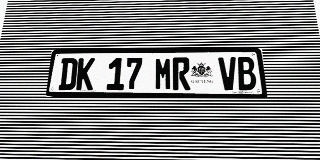1: (106, 58, 125, 90)
7: (124, 58, 143, 90)
B: (236, 57, 257, 90)
D: (58, 58, 78, 90)
K: (76, 58, 95, 90)
M: (155, 57, 172, 90)
R: (173, 57, 191, 90)
V: (218, 57, 238, 90)
